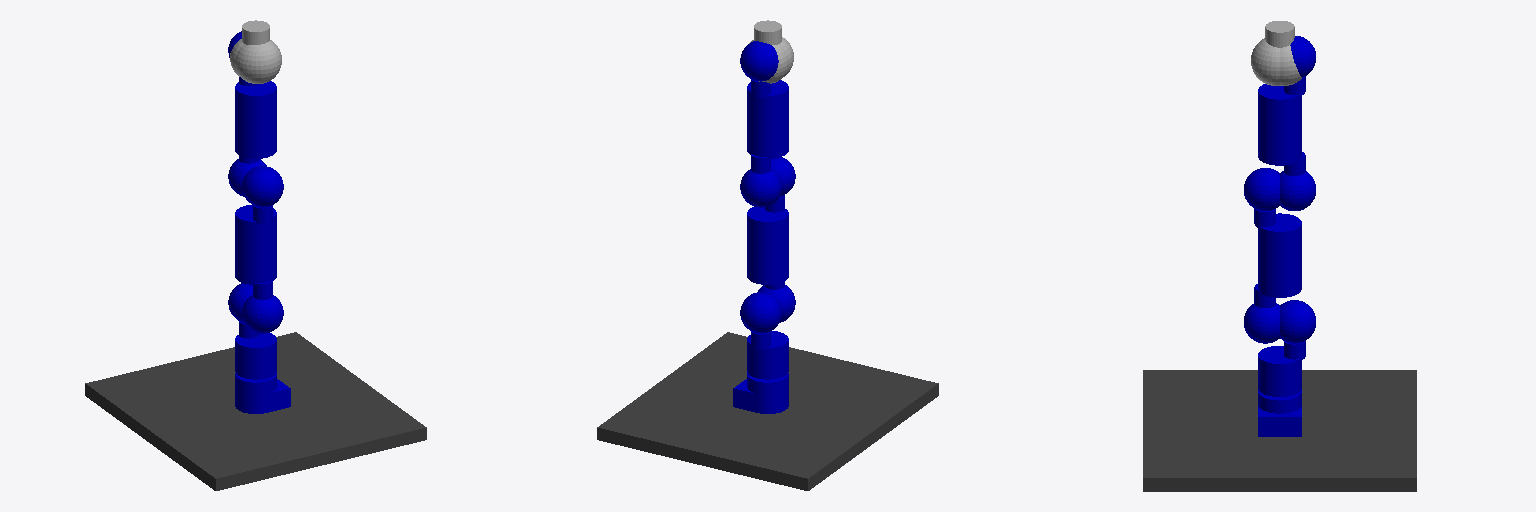
robot.urdf — lwr:
<?xml version="1.0" ?>
<!-- =================================================================================== -->
<!-- |    This document was autogenerated by xacro from kuka_lwr_arm.urdf.xml          | -->
<!-- |    EDITING THIS FILE BY HAND IS NOT RECOMMENDED                                 | -->
<!-- =================================================================================== -->
<robot name="lwr" xmlns:controller="http://playerstage.sourceforge.net/gazebo/xmlschema/#controller" xmlns:interface="http://playerstage.sourceforge.net/gazebo/xmlschema/#interface" xmlns:sensor="http://playerstage.sourceforge.net/gazebo/xmlschema/#sensor" xmlns:xacro="http://playerstage.sourceforge.net/gazebo/xmlschema/#interface">
  <material name="DarkGrey">
    <color rgba="0.3 0.3 0.3 1.0"/>
  </material>
  <material name="Red">
    <color rgba="0.3 0.3 0.3 1.0"/>
  </material>
  <material name="Black">
    <color rgba="0 0 0 1.0"/>
  </material>
  <material name="Orange">
    <color rgba="1.0 0.487 0 1.0"/>
  </material>
  <material name="Silver">
    <color rgba="1.0 1.0 1.0 1.0"/>
  </material>
  <material name="Grey">
    <color rgba="0.7 0.7 0.7 1.0"/>
  </material>
  <material name="Blue">
    <color rgba="0.0 0.0 0.8 1.0"/>
  </material>
  <material name="HandGray">
    <color rgba="0.953 0.996 0.694 1.0"/>
  </material>
  <material name="SickBlue">
    <color rgba="0.3058 0.5921 0.7294 1.0"/>
  </material>
  <link name="world_frame">
    <visual>
      <origin rpy="0 0 0" xyz="0 0 -0.02"/>
      <geometry>
        <box size="0.7 0.75 0.04"/>
      </geometry>
      <material name="DarkGrey"/>
    </visual>
    <collision>
      <origin rpy="0 0 0" xyz="0 0 -0.02"/>
      <geometry>
        <box size="0.7 0.75 0.04"/>
      </geometry>
    </collision>
  </link>
  <joint name="world_frame_lwr_arm_base_joint" type="fixed">
    <origin rpy="0 0 0" xyz="0 0 0"/>
    <parent link="world_frame"/>
    <child link="base"/>
  </joint>
  <link name="base">
    <inertial>
      <mass value="2.0"/>
      <origin xyz="0 0 0.055"/>
      <inertia ixx="0.00381666666667" ixy="0" ixz="0" iyy="0.0036" iyz="0" izz="0.00381666666667"/>
    </inertial>
    <visual>
      <origin rpy="0 0 0" xyz="0.04 0 0.03"/>
      <geometry>
        <box size="0.08 0.12 0.06"/>
      </geometry>
      <material name="Blue"/>
    </visual>
    <visual>
      <origin rpy="0 0 0" xyz="0 0 0.05"/>
      <geometry>
        <cylinder length="0.1" radius="0.06"/>
      </geometry>
      <material name="Blue"/>
    </visual>
    <collision>
      <origin rpy="0 0 0" xyz="0.04 0 0.03"/>
      <geometry>
        <box size="0.08 0.12 0.06"/>
      </geometry>
    </collision>
    <collision>
      <origin rpy="0 0 0" xyz="0 0 0.05"/>
      <geometry>
        <cylinder length="0.1" radius="0.06"/>
      </geometry>
    </collision>
  </link>
  <joint name="lwr_arm_0_joint" type="revolute">
    <origin rpy="0 0 3.14159265359" xyz="0 0 0.11"/>
    <axis xyz="0 0 1"/>
    <limit effort="204" lower="-2.96705972839" upper="2.96705972839" velocity="1.91986217719"/>
    <safety_controller k_position="30" k_velocity="30" soft_lower_limit="-2.93215314335" soft_upper_limit="2.93215314335"/>
    <dynamics damping="1.0"/>
    <parent link="base"/>
    <child link="lwr_arm_1_link"/>
  </joint>
  <link name="lwr_arm_1_link">
    <inertial>
      <mass value="2.0"/>
      <origin rpy="0 0 0" xyz="0 -0.06 0.130"/>
      <inertia ixx="0.0136666666667" ixy="0" ixz="0" iyy="0.003" iyz="0" izz="0.0118666666667"/>
    </inertial>
    <visual>
      <origin rpy="0 0 0" xyz="0 0 0.05"/>
      <geometry>
        <cylinder length="0.1" radius="0.06"/>
      </geometry>
      <material name="Blue"/>
    </visual>
    <visual>
      <origin rpy="0 0 0" xyz="0 -0.04 0.12"/>
      <geometry>
        <cylinder length="0.05" radius="0.03"/>
      </geometry>
      <material name="Blue"/>
    </visual>
    <visual>
      <origin rpy="0 0 0" xyz="0 -0.04 0.2"/>
      <geometry>
        <sphere radius="0.06"/>
      </geometry>
      <material name="Blue"/>
    </visual>
    <collision>
      <origin rpy="0 0 0" xyz="0 0 0.05"/>
      <geometry>
        <cylinder length="0.1" radius="0.06"/>
      </geometry>
    </collision>
    <collision>
      <origin rpy="0 0 0" xyz="0 -0.04 0.2"/>
      <geometry>
        <sphere radius="0.06"/>
      </geometry>
    </collision>
  </link>
  <!-- Third segment of the arm. Joint along y-axis -->
  <joint name="lwr_arm_1_joint" type="revolute">
    <origin rpy="0 0 0" xyz="0 0 0.2"/>
    <axis xyz="0 1 0"/>
    <limit effort="306" lower="-2.09439510239" upper="2.09439510239" velocity="1.91986217719"/>
    <safety_controller k_position="30" k_velocity="30" soft_lower_limit="-2.05948851735" soft_upper_limit="2.05948851735"/>
    <dynamics damping="1.0" friction="10"/>
    <parent link="lwr_arm_1_link"/>
    <child link="lwr_arm_2_link"/>
  </joint>
  <link name="lwr_arm_2_link">
    <inertial>
      <mass value="2.0"/>
      <origin rpy="0 0 0" xyz="0 0.06 0.07"/>
      <inertia ixx="0.0136666666667" ixy="0" ixz="0" iyy="0.003" iyz="0" izz="0.0118666666667"/>
    </inertial>
    <visual>
      <origin rpy="0 0 0" xyz="0 0 0.15"/>
      <geometry>
        <cylinder length="0.1" radius="0.06"/>
      </geometry>
      <material name="Blue"/>
    </visual>
    <visual>
      <origin rpy="0 0 0" xyz="0 0.04 0.08"/>
      <geometry>
        <cylinder length="0.05" radius="0.03"/>
      </geometry>
      <material name="Blue"/>
    </visual>
    <visual>
      <origin rpy="0 0 0" xyz="0 0.04 0"/>
      <geometry>
        <sphere radius="0.06"/>
      </geometry>
      <material name="Blue"/>
    </visual>
    <collision>
      <origin rpy="0 0 0" xyz="0 0 0.15"/>
      <geometry>
        <cylinder length="0.1" radius="0.06"/>
      </geometry>
    </collision>
    <collision>
      <origin rpy="0 0 0" xyz="0 0.04 0"/>
      <geometry>
        <sphere radius="0.06"/>
      </geometry>
    </collision>
  </link>
  <joint name="lwr_arm_2_joint" type="revolute">
    <origin rpy="0 0 0" xyz="0 0 0.20"/>
    <axis xyz="0 0 1"/>
    <limit effort="204" lower="-2.96705972839" upper="2.96705972839" velocity="2.26892802759"/>
    <safety_controller k_position="30" k_velocity="30" soft_lower_limit="-2.93215314335" soft_upper_limit="2.93215314335"/>
    <dynamics damping="1.0"/>
    <parent link="lwr_arm_2_link"/>
    <child link="lwr_arm_3_link"/>
  </joint>
  <link name="lwr_arm_3_link">
    <inertial>
      <mass value="2.0"/>
      <origin rpy="0 0 0" xyz="0 0.06 0.130"/>
      <inertia ixx="0.0136666666667" ixy="0" ixz="0" iyy="0.003" iyz="0" izz="0.0118666666667"/>
    </inertial>
    <visual>
      <origin rpy="0 0 0" xyz="0 0 0.05"/>
      <geometry>
        <cylinder length="0.1" radius="0.06"/>
      </geometry>
      <material name="Blue"/>
    </visual>
    <visual>
      <origin rpy="0 0 0" xyz="0 0.04 0.12"/>
      <geometry>
        <cylinder length="0.05" radius="0.03"/>
      </geometry>
      <material name="Blue"/>
    </visual>
    <visual>
      <origin rpy="0 0 0" xyz="0 0.04 0.2"/>
      <geometry>
        <sphere radius="0.06"/>
      </geometry>
      <material name="Blue"/>
    </visual>
    <collision>
      <origin rpy="0 0 0" xyz="0 0 0.05"/>
      <geometry>
        <cylinder length="0.1" radius="0.06"/>
      </geometry>
    </collision>
    <collision>
      <origin rpy="0 0 0" xyz="0 0.04 0.2"/>
      <geometry>
        <sphere radius="0.06"/>
      </geometry>
    </collision>
  </link>
  <!-- fifth element of the arm. x-axis -->
  <joint name="lwr_arm_3_joint" type="revolute">
    <origin rpy="0 0 0" xyz="0 0 0.20"/>
    <axis xyz="0 -1 0"/>
    <limit effort="306" lower="-2.09439510239" upper="2.09439510239" velocity="2.26892802759"/>
    <safety_controller k_position="30" k_velocity="30" soft_lower_limit="-2.05948851735" soft_upper_limit="2.05948851735"/>
    <dynamics damping="1.0"/>
    <parent link="lwr_arm_3_link"/>
    <child link="lwr_arm_4_link"/>
  </joint>
  <link name="lwr_arm_4_link">
    <inertial>
      <mass value="2.0"/>
      <origin rpy="0 0 0" xyz="0 -0.06 0.07"/>
      <inertia ixx="0.0136666666667" ixy="0" ixz="0" iyy="0.003" iyz="0" izz="0.0118666666667"/>
    </inertial>
    <visual>
      <origin rpy="0 0 0" xyz="0 0 0.15"/>
      <geometry>
        <cylinder length="0.1" radius="0.06"/>
      </geometry>
      <material name="Blue"/>
    </visual>
    <visual>
      <origin rpy="0 0 0" xyz="0 -0.04 0.08"/>
      <geometry>
        <cylinder length="0.05" radius="0.03"/>
      </geometry>
      <material name="Blue"/>
    </visual>
    <visual>
      <origin rpy="0 0 0" xyz="0 -0.04 0"/>
      <geometry>
        <sphere radius="0.06"/>
      </geometry>
      <material name="Blue"/>
    </visual>
    <collision>
      <origin rpy="0 0 0" xyz="0 0 0.15"/>
      <geometry>
        <cylinder length="0.1" radius="0.06"/>
      </geometry>
    </collision>
    <collision>
      <origin rpy="0 0 0" xyz="0 -0.04 0"/>
      <geometry>
        <sphere radius="0.06"/>
      </geometry>
    </collision>
  </link>
  <joint name="lwr_arm_4_joint" type="revolute">
    <origin rpy="0 0 0" xyz="0 0 0.20"/>
    <axis xyz="0 0 1"/>
    <limit effort="204" lower="-2.96705972839" upper="2.96705972839" velocity="2.26892802759"/>
    <safety_controller k_position="30" k_velocity="30" soft_lower_limit="-2.93215314335" soft_upper_limit="2.93215314335"/>
    <dynamics damping="1.0"/>
    <parent link="lwr_arm_4_link"/>
    <child link="lwr_arm_5_link"/>
  </joint>
  <link name="lwr_arm_5_link">
    <inertial>
      <mass value="2.0"/>
      <origin rpy="0 0 0" xyz="0 0 0.124"/>
      <inertia ixx="0.0126506666667" ixy="0" ixz="0" iyy="0.003" iyz="0" izz="0.0108506666667"/>
    </inertial>
    <visual>
      <origin rpy="0 0 0" xyz="0 0 0.05"/>
      <geometry>
        <cylinder length="0.1" radius="0.06"/>
      </geometry>
      <material name="Blue"/>
    </visual>
    <visual>
      <origin rpy="0 0 0" xyz="0 -0.04 0.12"/>
      <geometry>
        <cylinder length="0.05" radius="0.03"/>
      </geometry>
      <material name="Blue"/>
    </visual>
    <visual>
      <origin rpy="0 0 0" xyz="0 -0.04 0.2"/>
      <geometry>
        <sphere radius="0.06"/>
      </geometry>
      <material name="Blue"/>
    </visual>
    <collision>
      <origin rpy="0 0 0" xyz="0 0 0.05"/>
      <geometry>
        <cylinder length="0.1" radius="0.06"/>
      </geometry>
    </collision>
    <collision>
      <origin rpy="0 0 0" xyz="0 -0.04 0.2"/>
      <geometry>
        <sphere radius="0.06"/>
      </geometry>
    </collision>
  </link>
  <joint name="lwr_arm_5_joint" type="revolute">
    <origin rpy="0 0 0" xyz="0 0 0.19"/>
    <axis xyz="0 1 0"/>
    <limit effort="306" lower="-2.09439510239" upper="2.09439510239" velocity="3.14159265359"/>
    <safety_controller k_position="30" k_velocity="30" soft_lower_limit="-2.05948851735" soft_upper_limit="2.05948851735"/>
    <dynamics damping="1.0"/>
    <parent link="lwr_arm_5_link"/>
    <child link="lwr_arm_6_link"/>
  </joint>
  <link name="lwr_arm_6_link">
    <inertial>
      <mass value="0.2"/>
      <origin rpy="0 0 0" xyz="0 0 0.0625"/>
      <inertia ixx="0.000520833333333" ixy="0" ixz="0" iyy="0.000520833333333" iyz="0" izz="0.000520833333333"/>
    </inertial>
    <visual>
      <origin rpy="0 0 0" xyz="0 0.01 0"/>
      <geometry>
        <sphere radius="0.07"/>
      </geometry>
      <material name="Grey"/>
    </visual>
    <visual>
      <origin rpy="0 0 0" xyz="0 -0.01 0"/>
      <geometry>
        <sphere radius="0.07"/>
      </geometry>
    </visual>
    <collision>
      <origin rpy="0 0 0" xyz="0 0.01 0"/>
      <geometry>
        <sphere radius="0.07"/>
      </geometry>
      <material name="Grey"/>
    </collision>
    <collision>
      <origin rpy="0 0 0" xyz="0 -0.01 0"/>
      <geometry>
        <sphere radius="0.07"/>
      </geometry>
    </collision>
  </link>
  <joint name="lwr_arm_6_joint" type="revolute">
    <origin rpy="0 0 3.14159265359" xyz="0 0 0.078"/>
    <axis xyz="0 0 1"/>
    <limit effort="204" lower="-2.96705972839" upper="2.96705972839" velocity="3.14159265359"/>
    <safety_controller k_position="30" k_velocity="30" soft_lower_limit="-2.93215314335" soft_upper_limit="2.93215314335"/>
    <dynamics damping="1.0"/>
    <parent link="lwr_arm_6_link"/>
    <child link="lwr_arm_7_link"/>
  </joint>
  <link name="lwr_arm_7_link">
    <inertial>
      <mass value="0.2"/>
      <origin xyz="0 0 0"/>
      <inertia ixx="0.0333333333333" ixy="0" ixz="0" iyy="0.0333333333333" iyz="0" izz="0.0333333333333"/>
    </inertial>
    <visual>
      <origin rpy="0 0 -0.785398163397" xyz="0 0 0"/>
      <geometry>
        <cylinder length="0.05" radius="0.04"/>
      </geometry>
      <material name="Grey"/>
    </visual>
    <collision>
      <origin rpy="0 0 -0.785398163397" xyz="0 0 0"/>
      <geometry>
        <cylinder length="0.05" radius="0.04"/>
      </geometry>
    </collision>
  </link>
  <!-- SHD hand-->
  <!-- joint between end-effector and sdh_palm_link -->
  <joint name="sdh_palm_joint" type="fixed">
    <origin rpy="0.0 0.0 1.57079" xyz="0 0 0.022"/>
    <parent link="lwr_arm_7_link"/>
    <child link="sdh_palm_link"/>
  </joint>
  <link name="sdh_palm_link">
    <inertial>
      <origin rpy="0 0 0" xyz="0 0 0"/>
      <mass value="1"/>
      <inertia ixx="0.01" ixy="0" ixz="0" iyy="0.01" iyz="0" izz="0.01"/>
    </inertial>
    <visual>
      <origin rpy="0 0 0" xyz="0 0 0"/>
      <geometry>
        <mesh filename="package://schunk_description/meshes/sdh/palm.stl"/>
      </geometry>
      <material name="Grey"/>
    </visual>
    <collision>
      <origin rpy="0 0 0" xyz="0 0 0"/>
      <geometry>
        <mesh filename="package://schunk_description/meshes/sdh/palm.stl"/>
      </geometry>
    </collision>
  </link>
  <!-- grasp link -->
  <joint name="sdh_grasp_joint" type="fixed">
    <origin rpy="0 0 0" xyz="0 0 0.15"/>
    <parent link="sdh_palm_link"/>
    <child link="sdh_grasp_link"/>
  </joint>
  <link name="sdh_grasp_link"/>
  <!-- tip link -->
  <joint name="sdh_tip_joint" type="fixed">
    <origin rpy="0 0 0" xyz="0 0 0.22"/>
    <parent link="sdh_palm_link"/>
    <child link="sdh_tip_link"/>
  </joint>
  <link name="sdh_tip_link"/>
  <!-- finger1 -->
  <!-- joint between sdh_palm_link and sdh_finger_11_link -->
  <joint name="sdh_knuckle_joint" type="revolute">
    <origin rpy="0 0 3.14159265" xyz="0.01905 0.033 0.0745"/>
    <parent link="sdh_palm_link"/>
    <child link="sdh_finger_11_link"/>
    <axis xyz="0 0 1"/>
    <dynamics damping="1"/>
    <limit effort="100" lower="0" upper="1.570796327" velocity="5"/>
  </joint>
  <link name="sdh_finger_11_link">
    <inertial>
      <origin rpy="0 0 0" xyz="0 0 0"/>
      <mass value="0.1"/>
      <inertia ixx="0.01" ixy="0" ixz="0" iyy="0.01" iyz="0" izz="0.01"/>
    </inertial>
    <visual>
      <origin rpy="0 0 0" xyz="0 0 0"/>
      <geometry>
        <mesh filename="package://schunk_description/meshes/sdh/knuckle.stl"/>
      </geometry>
      <material name="Grey"/>
    </visual>
    <collision>
      <origin rpy="0 0 0" xyz="0 0 0"/>
      <geometry>
        <mesh filename="package://schunk_description/meshes/sdh/knuckle.stl"/>
      </geometry>
    </collision>
  </link>
  <!-- joint between sdh_finger_11_link and sdh_finger_12_link -->
  <joint name="sdh_finger_12_joint" type="revolute">
    <origin rpy="0 0 0" xyz="0 0 0.0165"/>
    <parent link="sdh_finger_11_link"/>
    <child link="sdh_finger_12_link"/>
    <axis xyz="0 1 0"/>
    <dynamics damping="1"/>
    <limit effort="100" lower="-1.570796327" upper="1.570796327" velocity="5"/>
  </joint>
  <link name="sdh_finger_12_link">
    <inertial>
      <origin rpy="0 0 0" xyz="0 0 0"/>
      <mass value="0.1"/>
      <inertia ixx="0.01" ixy="0" ixz="0" iyy="0.01" iyz="0" izz="0.01"/>
    </inertial>
    <visual>
      <origin rpy="0 0 0" xyz="0 0 0"/>
      <geometry>
        <mesh filename="package://schunk_description/meshes/sdh/finger.stl"/>
      </geometry>
      <material name="Grey"/>
    </visual>
    <collision>
      <origin rpy="0 0 0" xyz="0 0 0"/>
      <geometry>
        <mesh filename="package://schunk_description/meshes/sdh/finger.stl"/>
      </geometry>
    </collision>
  </link>
  <!-- joint between sdh_finger_12_link and sdh_finger_13_link -->
  <joint name="sdh_finger_13_joint" type="revolute">
    <origin rpy="0 0 0" xyz="0 0 0.0865"/>
    <parent link="sdh_finger_12_link"/>
    <child link="sdh_finger_13_link"/>
    <axis xyz="0 1 0"/>
    <dynamics damping="1"/>
    <limit effort="100" lower="-1.570796327" upper="1.570796327" velocity="5"/>
  </joint>
  <link name="sdh_finger_13_link">
    <inertial>
      <origin rpy="0 0 0" xyz="0 0 0"/>
      <mass value="0.1"/>
      <inertia ixx="0.01" ixy="0" ixz="0" iyy="0.01" iyz="0" izz="0.01"/>
    </inertial>
    <visual>
      <origin rpy="0 0 0" xyz="0 0 0"/>
      <geometry>
        <mesh filename="package://schunk_description/meshes/sdh/finger_tip.stl"/>
      </geometry>
      <material name="Grey"/>
    </visual>
    <collision>
      <origin rpy="0 0 0" xyz="0 0 0"/>
      <geometry>
        <mesh filename="package://schunk_description/meshes/sdh/finger_tip.stl"/>
      </geometry>
    </collision>
  </link>
  <!-- finger2 -->
  <!-- joint between sdh_palm_link and sdh_finger_21_link -->
  <joint name="sdh_finger_21_joint" type="revolute">
    <mimic joint="sdh_knuckle_joint" multiplier="1" offset="0"/>
    <origin rpy="0 0 3.14159265" xyz="0.01905 -0.033 0.0745"/>
    <parent link="sdh_palm_link"/>
    <child link="sdh_finger_21_link"/>
    <axis xyz="0 0 -1"/>
    <dynamics damping="1"/>
    <limit effort="100" lower="0" upper="1.570796327" velocity="5"/>
  </joint>
  <link name="sdh_finger_21_link">
    <inertial>
      <origin rpy="0 0 0" xyz="0 0 0"/>
      <mass value="0.1"/>
      <inertia ixx="0.01" ixy="0" ixz="0" iyy="0.01" iyz="0" izz="0.01"/>
    </inertial>
    <visual>
      <origin rpy="0 0 0" xyz="0 0 0"/>
      <geometry>
        <mesh filename="package://schunk_description/meshes/sdh/knuckle.stl"/>
      </geometry>
      <material name="Grey"/>
    </visual>
    <collision>
      <origin rpy="0 0 0" xyz="0 0 0"/>
      <geometry>
        <mesh filename="package://schunk_description/meshes/sdh/knuckle.stl"/>
      </geometry>
    </collision>
  </link>
  <!-- joint between sdh_finger_21_link and sdh_finger_22_link -->
  <joint name="sdh_finger_22_joint" type="revolute">
    <origin rpy="0 0 0" xyz="0 0 0.0165"/>
    <parent link="sdh_finger_21_link"/>
    <child link="sdh_finger_22_link"/>
    <axis xyz="0 1 0"/>
    <dynamics damping="1"/>
    <limit effort="100" lower="-1.570796327" upper="1.570796327" velocity="5"/>
  </joint>
  <link name="sdh_finger_22_link">
    <inertial>
      <origin rpy="0 0 0" xyz="0 0 0"/>
      <mass value="0.1"/>
      <inertia ixx="0.01" ixy="0" ixz="0" iyy="0.01" iyz="0" izz="0.01"/>
    </inertial>
    <visual>
      <origin rpy="0 0 0" xyz="0 0 0"/>
      <geometry>
        <mesh filename="package://schunk_description/meshes/sdh/finger.stl"/>
      </geometry>
      <material name="Grey"/>
    </visual>
    <collision>
      <origin rpy="0 0 0" xyz="0 0 0"/>
      <geometry>
        <mesh filename="package://schunk_description/meshes/sdh/finger.stl"/>
      </geometry>
    </collision>
  </link>
  <!-- joint between sdh_finger_22_link and sdh_finger_23_link -->
  <joint name="sdh_finger_23_joint" type="revolute">
    <origin rpy="0 0 0" xyz="0 0 0.0865"/>
    <parent link="sdh_finger_22_link"/>
    <child link="sdh_finger_23_link"/>
    <axis xyz="0 1 0"/>
    <dynamics damping="1"/>
    <limit effort="100" lower="-1.570796327" upper="1.570796327" velocity="5"/>
  </joint>
  <link name="sdh_finger_23_link">
    <inertial>
      <origin rpy="0 0 0" xyz="0 0 0"/>
      <mass value="0.1"/>
      <inertia ixx="0.01" ixy="0" ixz="0" iyy="0.01" iyz="0" izz="0.01"/>
    </inertial>
    <visual>
      <origin rpy="0 0 0" xyz="0 0 0"/>
      <geometry>
        <mesh filename="package://schunk_description/meshes/sdh/finger_tip.stl"/>
      </geometry>
      <material name="Grey"/>
    </visual>
    <collision>
      <origin rpy="0 0 0" xyz="0 0 0"/>
      <geometry>
        <mesh filename="package://schunk_description/meshes/sdh/finger_tip.stl"/>
      </geometry>
    </collision>
  </link>
  <!-- thumb -->
  <!-- joint between sdh_palm_link and sdh_thumb_1_link -->
  <joint name="sdh_thumb_1_joint" type="fixed">
    <origin rpy="0 0 0" xyz="-0.03811 0 0.0745 "/>
    <parent link="sdh_palm_link"/>
    <child link="sdh_thumb_1_link"/>
  </joint>
  <link name="sdh_thumb_1_link">
    <inertial>
      <origin rpy="0 0 0" xyz="0 0 0"/>
      <mass value="0.1"/>
      <inertia ixx="0.01" ixy="0" ixz="0" iyy="0.01" iyz="0" izz="0.01"/>
    </inertial>
    <visual>
      <origin rpy="0 0 0" xyz="0 0 0"/>
      <geometry>
        <mesh filename="package://schunk_description/meshes/sdh/knuckle.stl"/>
      </geometry>
      <material name="Grey"/>
    </visual>
    <collision>
      <origin rpy="0 0 0" xyz="0 0 0"/>
      <geometry>
        <mesh filename="package://schunk_description/meshes/sdh/knuckle.stl"/>
      </geometry>
    </collision>
  </link>
  <!-- joint between sdh_thumb_1_link and shd_thumb_2_link -->
  <joint name="sdh_thumb_2_joint" type="revolute">
    <origin rpy="0 0 0" xyz="0 0 0.0165"/>
    <parent link="sdh_thumb_1_link"/>
    <child link="sdh_thumb_2_link"/>
    <axis xyz="0 1 0"/>
    <dynamics damping="1"/>
    <limit effort="100" lower="-1.570796327" upper="1.570796327" velocity="5"/>
  </joint>
  <link name="sdh_thumb_2_link">
    <inertial>
      <origin rpy="0 0 0" xyz="0 0 0"/>
      <mass value="0.1"/>
      <inertia ixx="0.01" ixy="0" ixz="0" iyy="0.01" iyz="0" izz="0.01"/>
    </inertial>
    <visual>
      <origin rpy="0 0 0" xyz="0 0 0"/>
      <geometry>
        <mesh filename="package://schunk_description/meshes/sdh/finger.stl"/>
      </geometry>
      <material name="Grey"/>
    </visual>
    <collision>
      <origin rpy="0 0 0" xyz="0 0 0"/>
      <geometry>
        <mesh filename="package://schunk_description/meshes/sdh/finger.stl"/>
      </geometry>
    </collision>
  </link>
  <!-- joint between sdh_thumb_2_link and sdh_thumb_3_link -->
  <joint name="sdh_thumb_3_joint" type="revolute">
    <origin rpy="0 0 0" xyz="0 0 0.0865"/>
    <parent link="sdh_thumb_2_link"/>
    <child link="sdh_thumb_3_link"/>
    <axis xyz="0 1 0"/>
    <dynamics damping="1"/>
    <limit effort="100" lower="-1.570796327" upper="1.570796327" velocity="5"/>
  </joint>
  <link name="sdh_thumb_3_link">
    <inertial>
      <origin rpy="0 0 0" xyz="0 0 0"/>
      <mass value="0.1"/>
      <inertia ixx="0.01" ixy="0" ixz="0" iyy="0.01" iyz="0" izz="0.01"/>
    </inertial>
    <visual>
      <origin rpy="0 0 0" xyz="0 0 0"/>
      <geometry>
        <mesh filename="package://schunk_description/meshes/sdh/finger_tip.stl"/>
      </geometry>
      <material name="Grey"/>
    </visual>
    <collision>
      <origin rpy="0 0 0" xyz="0 0 0"/>
      <geometry>
        <mesh filename="package://schunk_description/meshes/sdh/finger_tip.stl"/>
      </geometry>
    </collision>
  </link>
</robot>

--- What the picture shows (computed from the rendered views, not written in the file) ---
3 views of the same robot in one strip: view 1: azimuth 30°, elevation 25°; view 2: azimuth 150°, elevation 25°; view 3: azimuth 270°, elevation 25° (orthographic).
Robot: lwr — 21 links, 20 joints (15 revolute, 5 fixed); root link world_frame; default pose: all joints at 0.
Links seen in each view (by area): view 1: world_frame, lwr_arm_3_link, lwr_arm_2_link, lwr_arm_1_link, lwr_arm_4_link, lwr_arm_5_link, base, lwr_arm_6_link, lwr_arm_7_link; view 2: world_frame, lwr_arm_1_link, lwr_arm_5_link, lwr_arm_4_link, lwr_arm_3_link, lwr_arm_2_link, base, lwr_arm_6_link, lwr_arm_7_link; view 3: world_frame, lwr_arm_1_link, lwr_arm_3_link, lwr_arm_2_link, lwr_arm_4_link, lwr_arm_5_link, base, lwr_arm_6_link, lwr_arm_7_link.
Link boxes in pixels (x1,y1,x2,y2): world_frame: (85, 332, 426, 490); lwr_arm_3_link: (235, 166, 283, 253); lwr_arm_2_link: (235, 246, 283, 333); lwr_arm_1_link: (228, 283, 276, 379); lwr_arm_4_link: (228, 120, 276, 196); lwr_arm_5_link: (228, 31, 276, 126); base: (235, 372, 290, 413); lwr_arm_6_link: (230, 39, 281, 83); lwr_arm_7_link: (242, 20, 269, 44); world_frame: (597, 332, 938, 490); lwr_arm_1_link: (740, 292, 788, 379); lwr_arm_5_link: (740, 41, 788, 126); lwr_arm_4_link: (740, 120, 788, 207); lwr_arm_3_link: (747, 157, 795, 253); lwr_arm_2_link: (747, 246, 795, 322); base: (733, 372, 788, 413); lwr_arm_6_link: (749, 37, 793, 83); lwr_arm_7_link: (754, 20, 781, 44); world_frame: (1143, 370, 1416, 491); lwr_arm_1_link: (1258, 300, 1315, 396); lwr_arm_3_link: (1244, 168, 1301, 264); lwr_arm_2_link: (1244, 257, 1301, 343); lwr_arm_4_link: (1258, 125, 1315, 210); lwr_arm_5_link: (1258, 36, 1315, 132); base: (1258, 390, 1301, 436); lwr_arm_6_link: (1251, 38, 1301, 85); lwr_arm_7_link: (1265, 21, 1294, 47).
Bounding box of the posed robot: 0.7 × 0.75 × 1.24 m (x, y, z).
Meshes: 4 distinct files referenced, 0 mesh visuals loaded (none loaded); not drawn: 10 (reference not matched to a file when rendering).